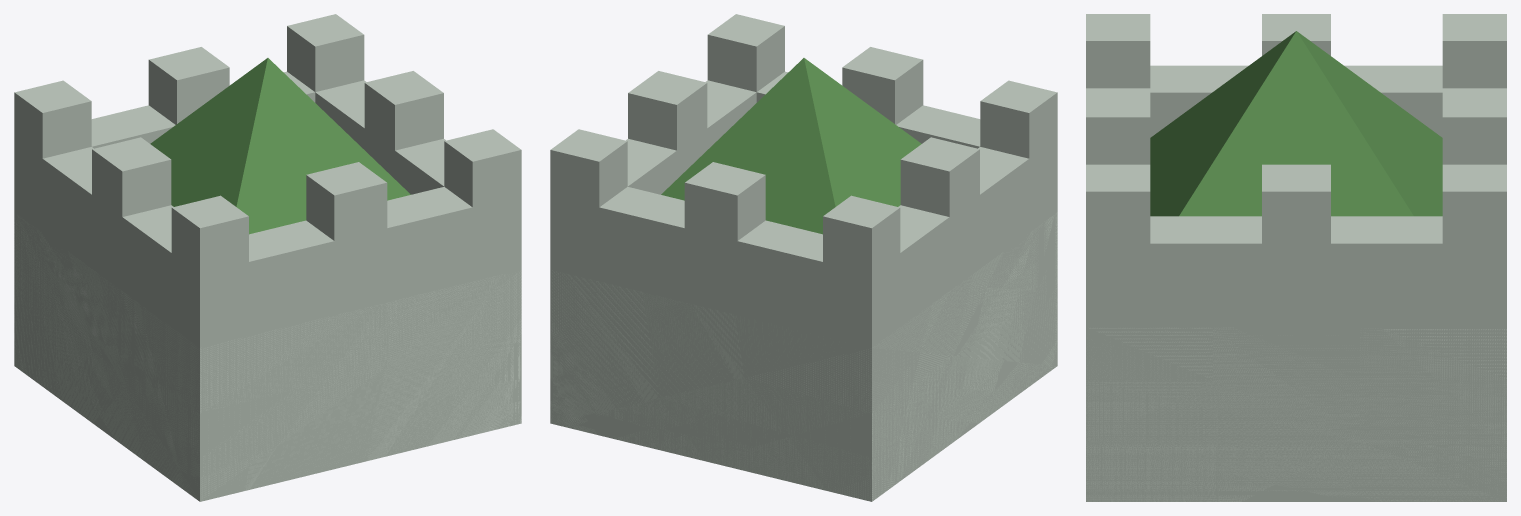
File: tile_029.dae
3 renders of one model, left to right at view 1: azimuth 30°, elevation 25°; view 2: azimuth 150°, elevation 25°; view 3: azimuth 270°, elevation 25°, orthographic. The views are drawn at different scales.
Visible parts, largest first — view 1: tile_029, Group; view 2: tile_029, Group; view 3: tile_029, Group.
Boxes of the visible parts, box(x1,y1,x2,y2) form: tile_029: box(14, 14, 521, 501); Group: box(150, 58, 410, 234); tile_029: box(550, 14, 1057, 501); Group: box(661, 58, 921, 234); tile_029: box(1086, 14, 1506, 501); Group: box(1150, 31, 1442, 216).
Bounding box in the file's own units: 0.5901 × 0.5914 × 0.5901.
